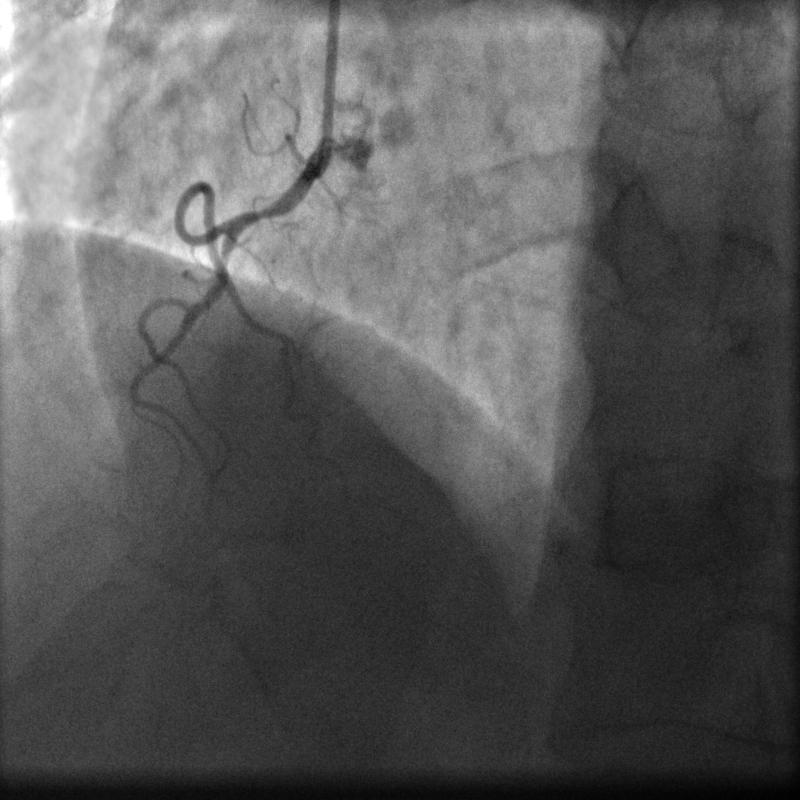Stenosis: (241, 192, 288, 238)
